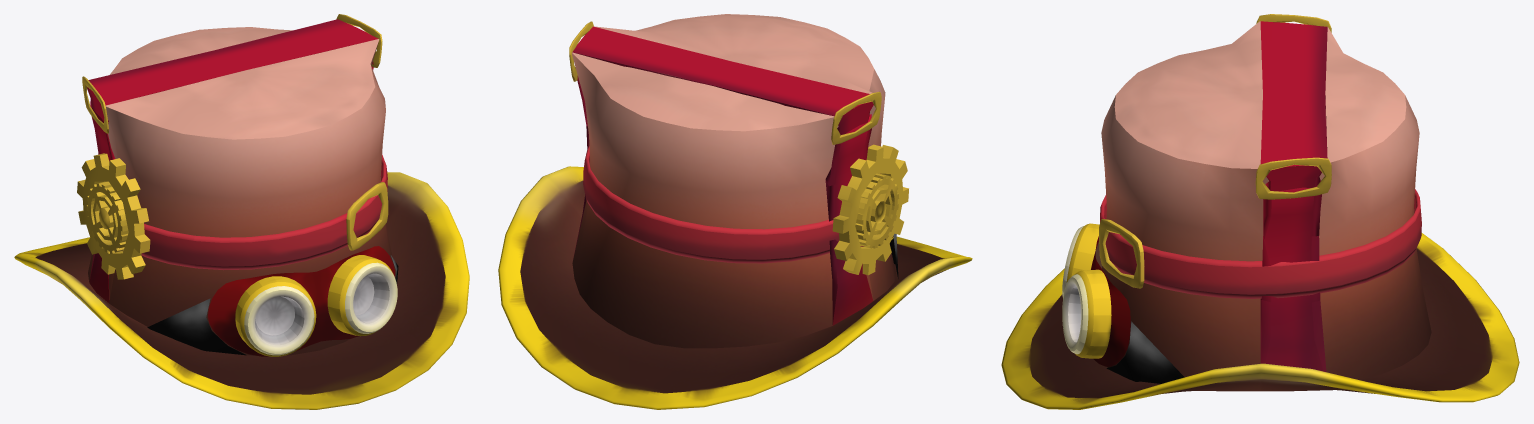
File: hat.fbx
3 views of the same model, side by side, from view 1: azimuth 30°, elevation 25°; view 2: azimuth 150°, elevation 25°; view 3: azimuth 270°, elevation 25° (orthographic). The views are drawn at different scales.
Parts seen in each view (by area): view 1: steam_hat; view 2: steam_hat; view 3: steam_hat.
Boxes of the visible parts, left/top/right/bottom form: steam_hat: left=14, top=14, right=469, bottom=409; steam_hat: left=498, top=14, right=972, bottom=409; steam_hat: left=1001, top=14, right=1519, bottom=409.
Size of the model in its own units: 33.4 by 21.84 by 36.57.
